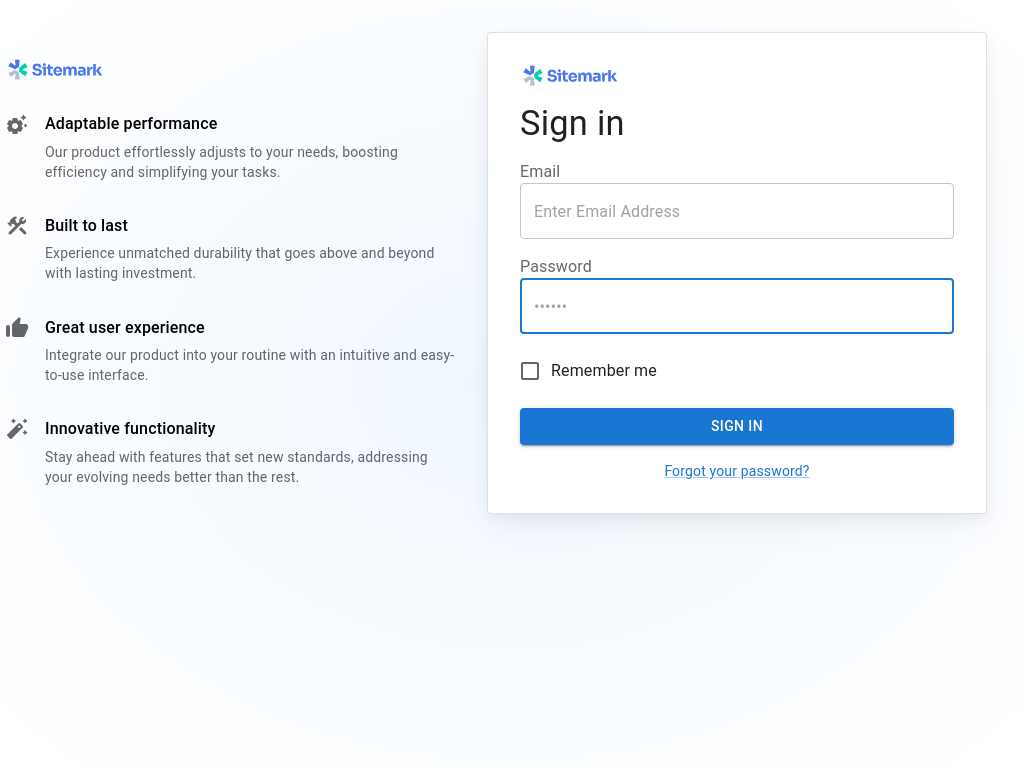
Test: User Login › displays an invalid email message if the user does not provide a valid email address
Expected: the element with test id "signin-card" is shown, [487,32,987,514]
Type "Testing01" into the password field with placeholder "••••••" at (737,306), box [520,278,954,334]
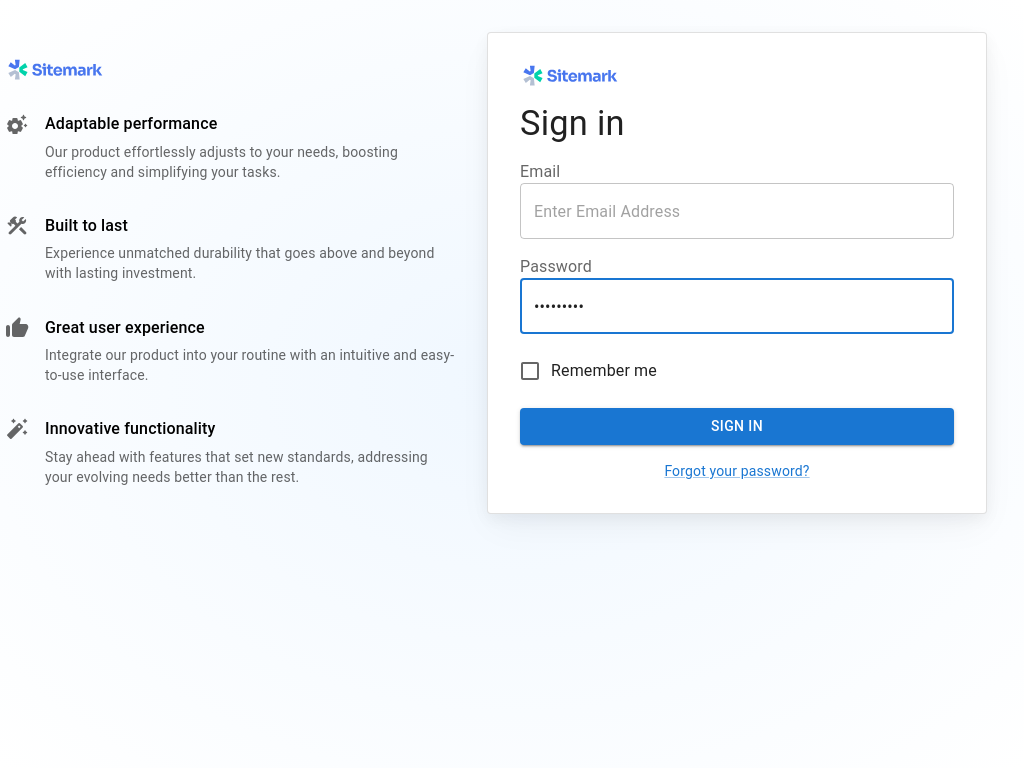
Type "test" into the field with placeholder "Enter Email Address" at (737,212), box [520,184,954,240]
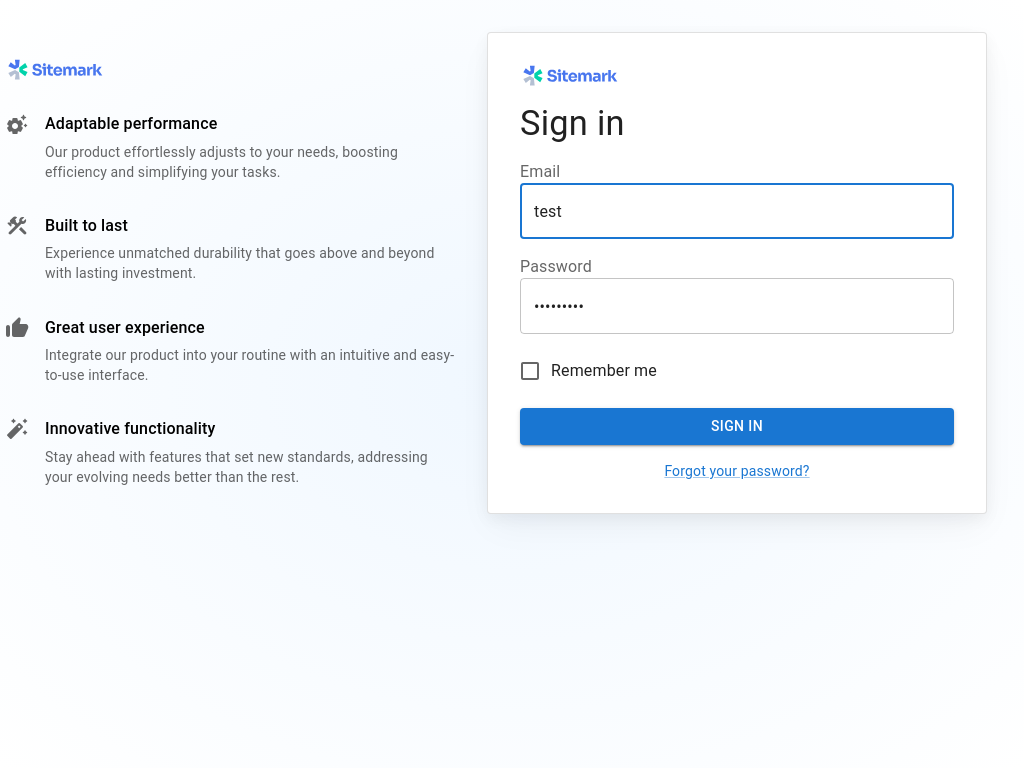
Click the button with test id "signin-button" at (737,427), box [520,408,954,445]
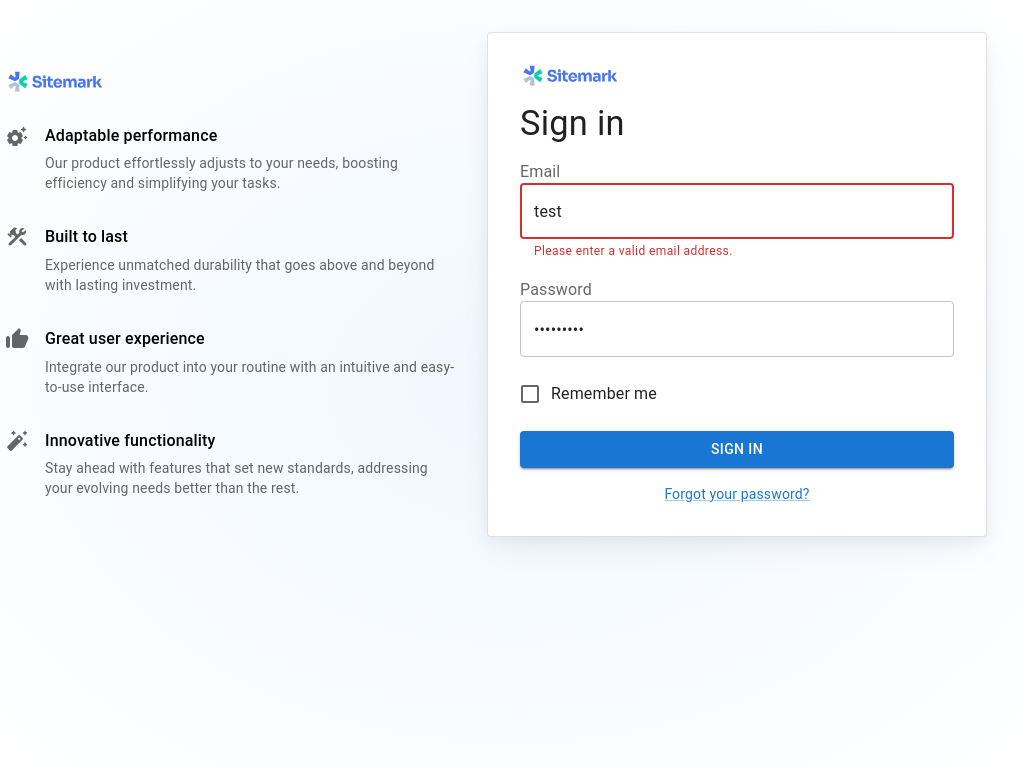
Expected: the text "Please enter a valid email address." is shown, [534,244,733,258]
